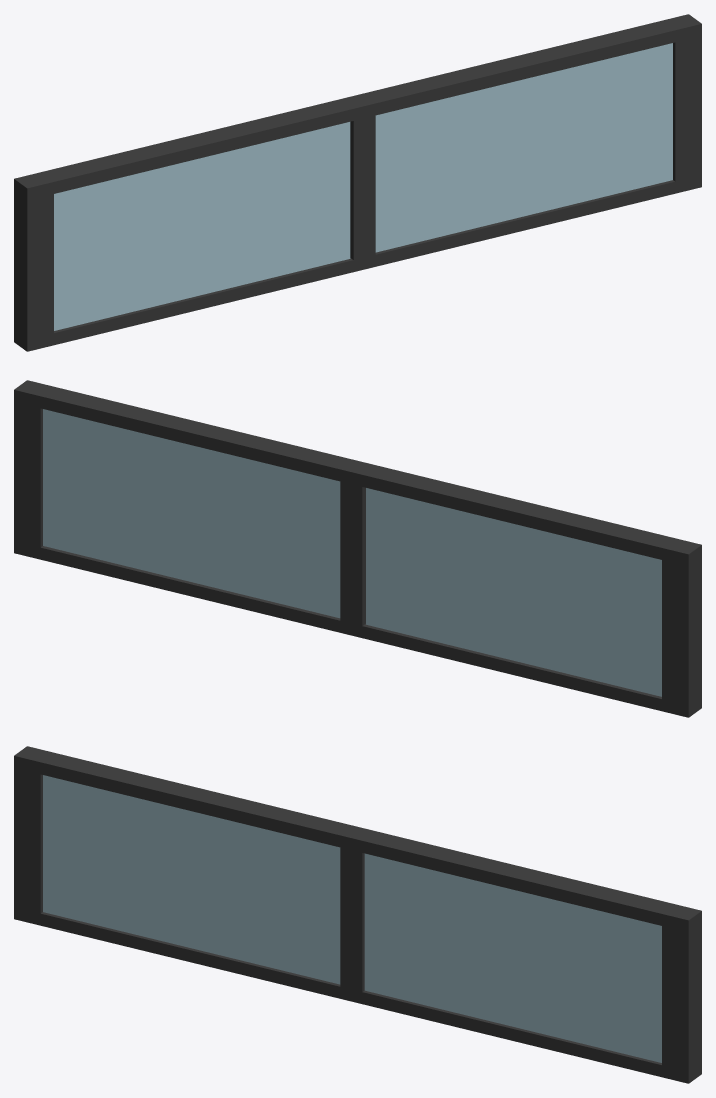
The model's file is Window_14.fbx.
3 renders of one model, top to bottom at view 1: azimuth 30°, elevation 25°; view 2: azimuth 150°, elevation 25°; view 3: azimuth 330°, elevation 25°, orthographic.
Parts seen in each view (by area): view 1: Window_14; view 2: Window_14; view 3: Window_14.
Boxes of the visible parts, bbox=[...] form: Window_14: bbox=[14, 14, 701, 351]; Window_14: bbox=[14, 380, 701, 717]; Window_14: bbox=[14, 746, 701, 1083].
Bounding box in the file's own units: 352 × 11.97 × 81.55.
